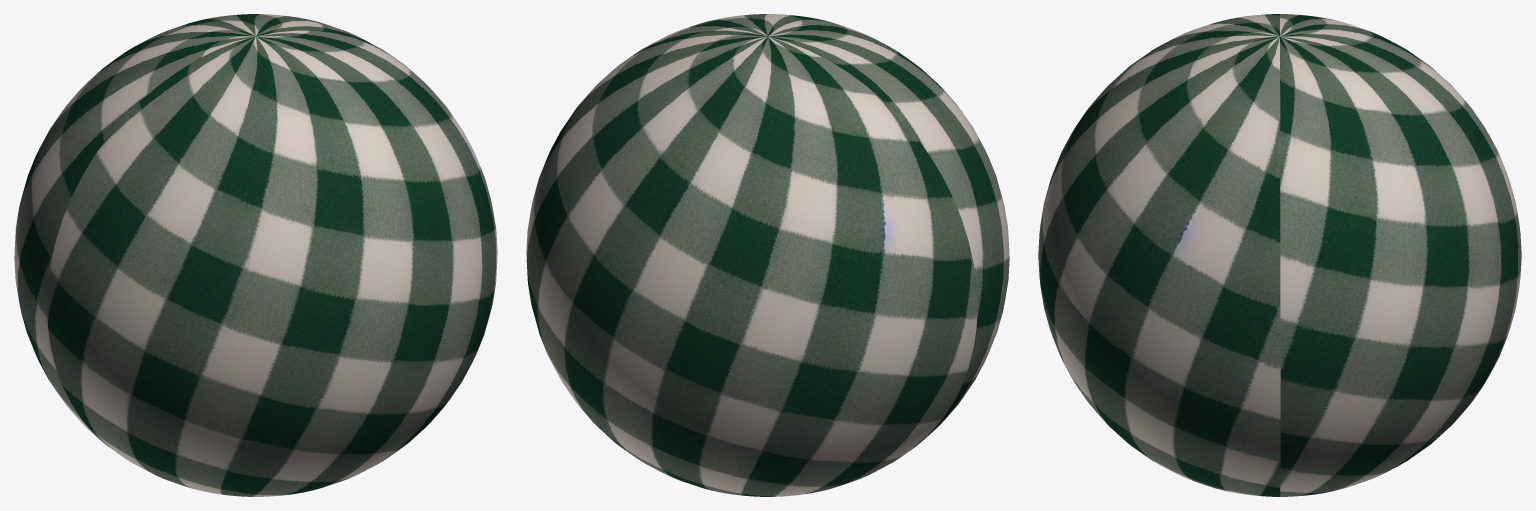
3 views of the same model, side by side, from view 1: azimuth 30°, elevation 25°; view 2: azimuth 150°, elevation 25°; view 3: azimuth 270°, elevation 25° (orthographic).
Parts seen in each view (by area): view 1: Sphere; view 2: Sphere; view 3: Sphere.
Boxes of the visible parts, x1,y1,x2,y2 form: Sphere: (14, 14, 497, 496); Sphere: (526, 14, 1009, 496); Sphere: (1038, 14, 1521, 496).
Bounding box in the file's own units: 1.7 × 1.7 × 1.7.
Materials: 1 (1 with a texture image).
